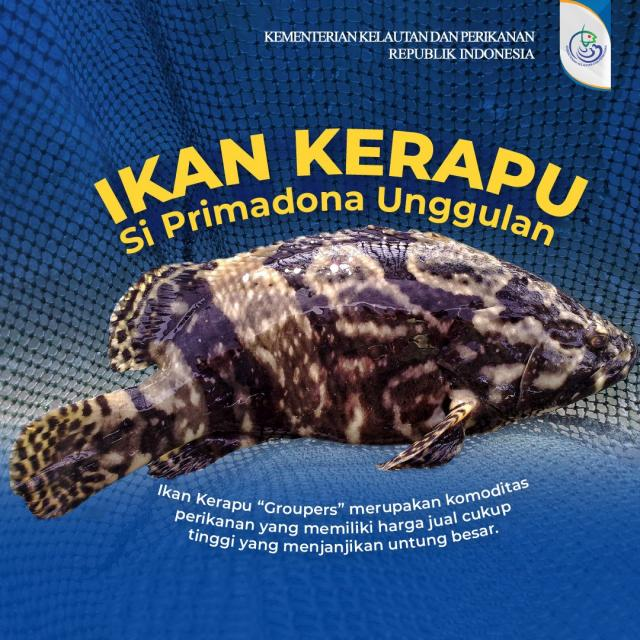grouper: (18, 226, 640, 518)
